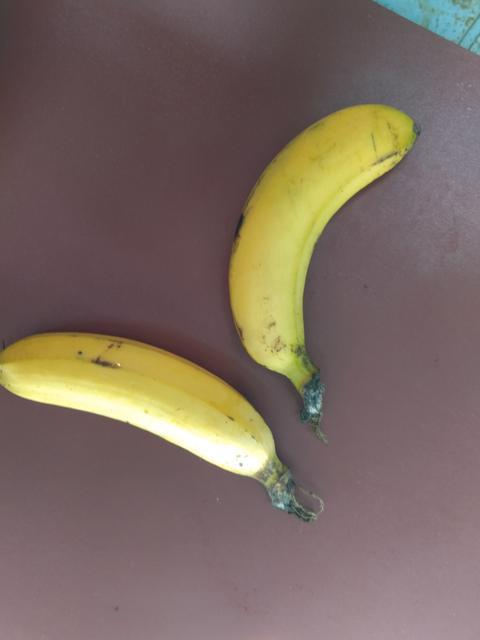freshripe: (195, 72, 432, 411), (0, 312, 294, 515)
